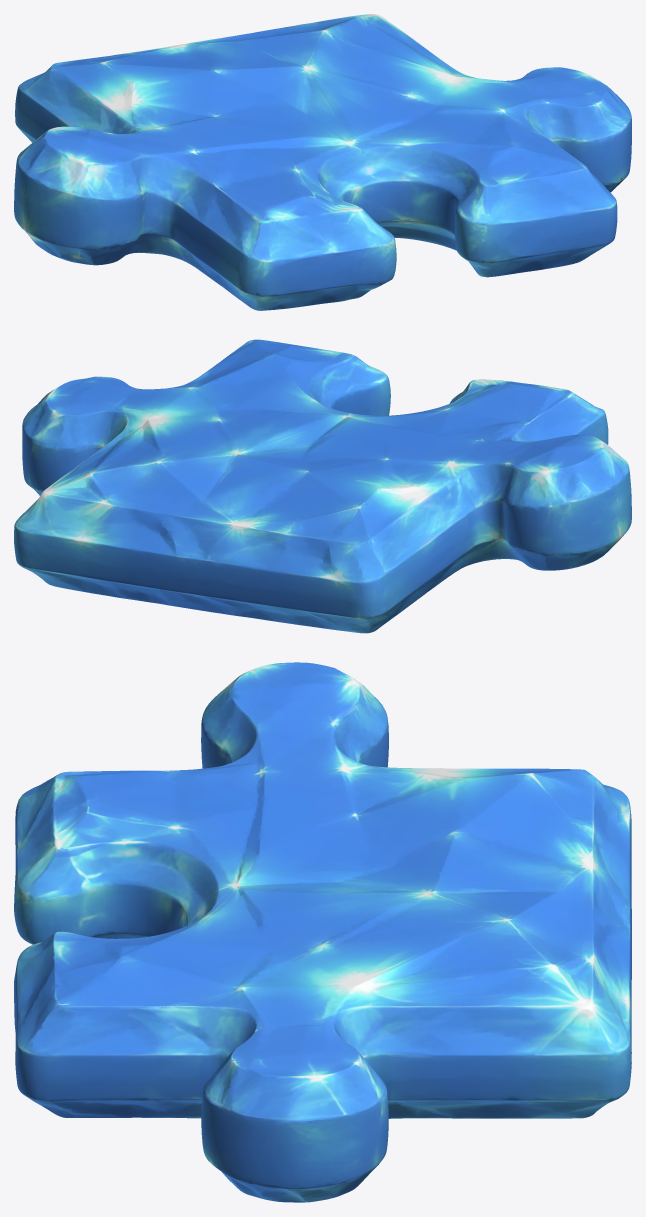
Rendered from puzzle2.glb.
3 renders of one model, top to bottom at view 1: azimuth 30°, elevation 25°; view 2: azimuth 150°, elevation 25°; view 3: azimuth 270°, elevation 25°, orthographic. The views are drawn at different scales.
Visible parts, largest first — view 1: tripo_node_e48324ad-67e0-4726-80b3-74e234400e87; view 2: tripo_node_e48324ad-67e0-4726-80b3-74e234400e87; view 3: tripo_node_e48324ad-67e0-4726-80b3-74e234400e87.
Part boxes in pixels (x1,y1,x2,y2): tripo_node_e48324ad-67e0-4726-80b3-74e234400e87: (14, 14, 631, 310); tripo_node_e48324ad-67e0-4726-80b3-74e234400e87: (14, 339, 631, 633); tripo_node_e48324ad-67e0-4726-80b3-74e234400e87: (14, 662, 631, 1202).
Size of the model in its own units: 0.9796 by 0.2603 by 0.7013.
Materials: 1 (1 with a texture image).
